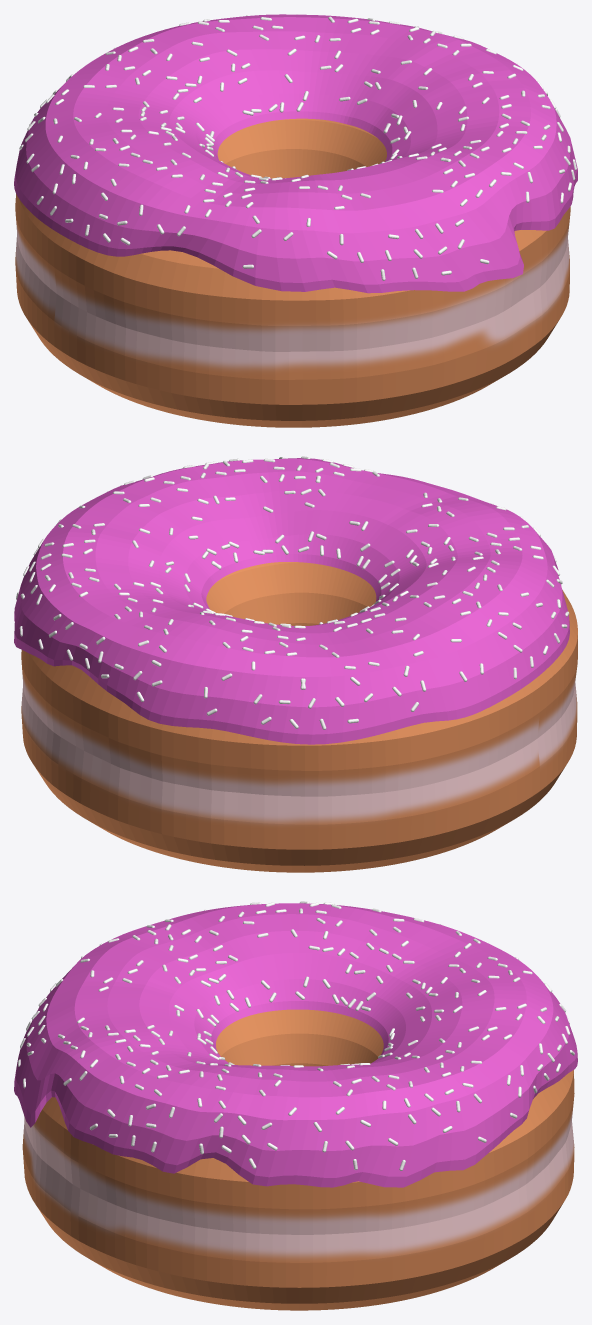
File: Donut.gltf
The picture shows the model from 3 angles, top to bottom: view 1: azimuth 30°, elevation 25°; view 2: azimuth 150°, elevation 25°; view 3: azimuth 270°, elevation 25°; orthographic projection.
Parts seen in each view (by area): view 1: Icing, Donut; view 2: Icing, Donut; view 3: Icing, Donut.
Boxes of the visible parts, x1=… form: Icing: x1=14, y1=14, x2=577, y2=293; Donut: x1=15, y1=118, x2=570, y2=427; Icing: x1=14, y1=458, x2=569, y2=744; Donut: x1=21, y1=562, x2=577, y2=872; Icing: x1=14, y1=903, x2=577, y2=1187; Donut: x1=22, y1=1009, x2=574, y2=1310.
Bounding box in the file's own units: 0.7957 × 0.3665 × 0.8051.
Materials: 3 (1 with a texture image).
